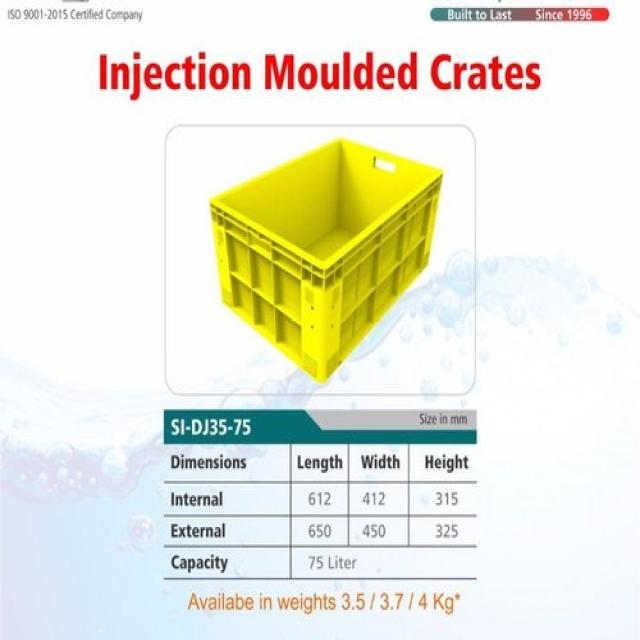basket: (166, 69, 482, 388)
